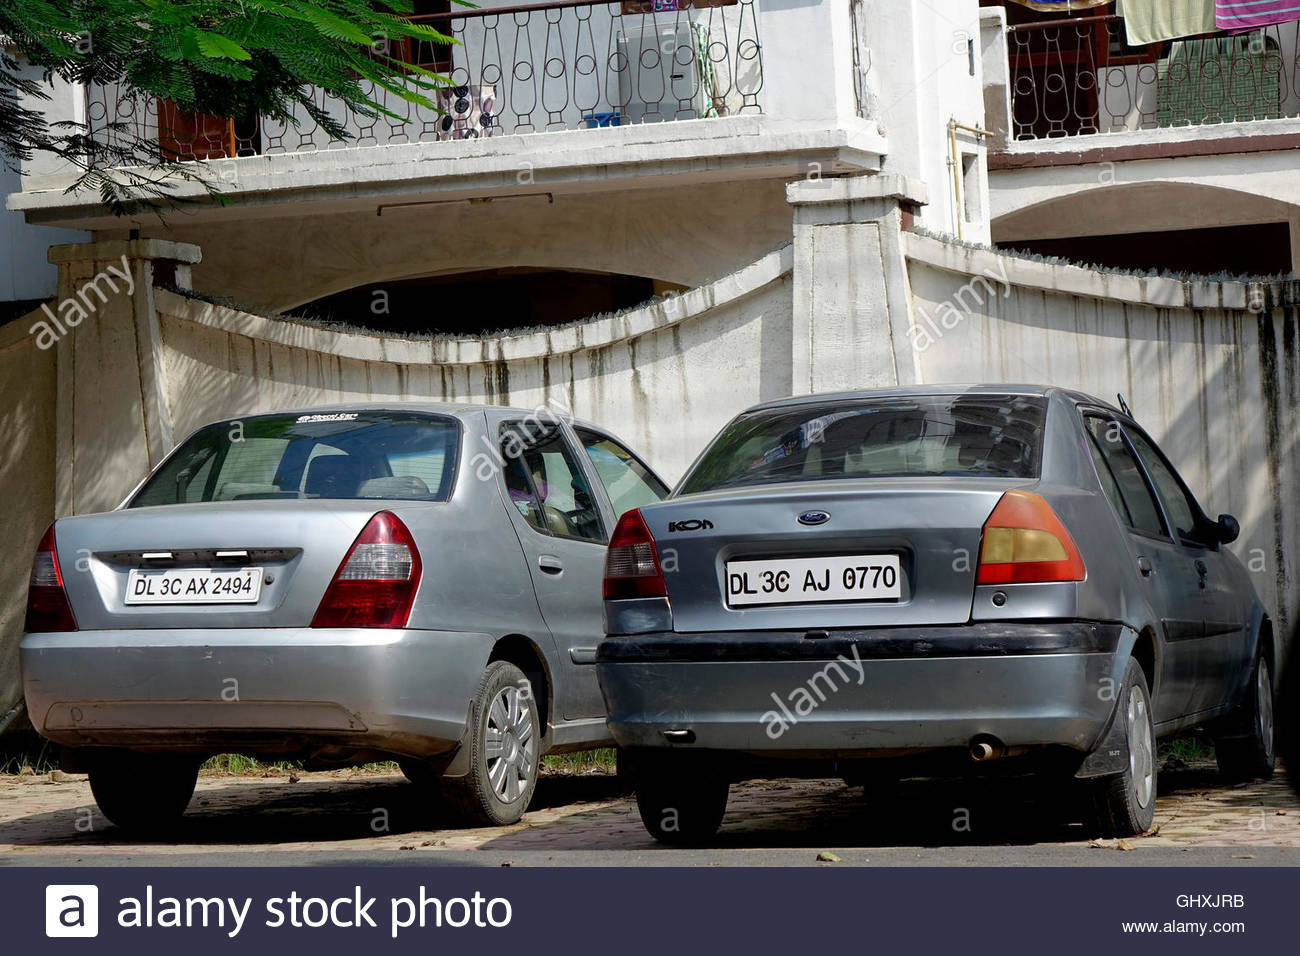numberplate: (720, 556, 904, 604), (123, 565, 263, 608)
